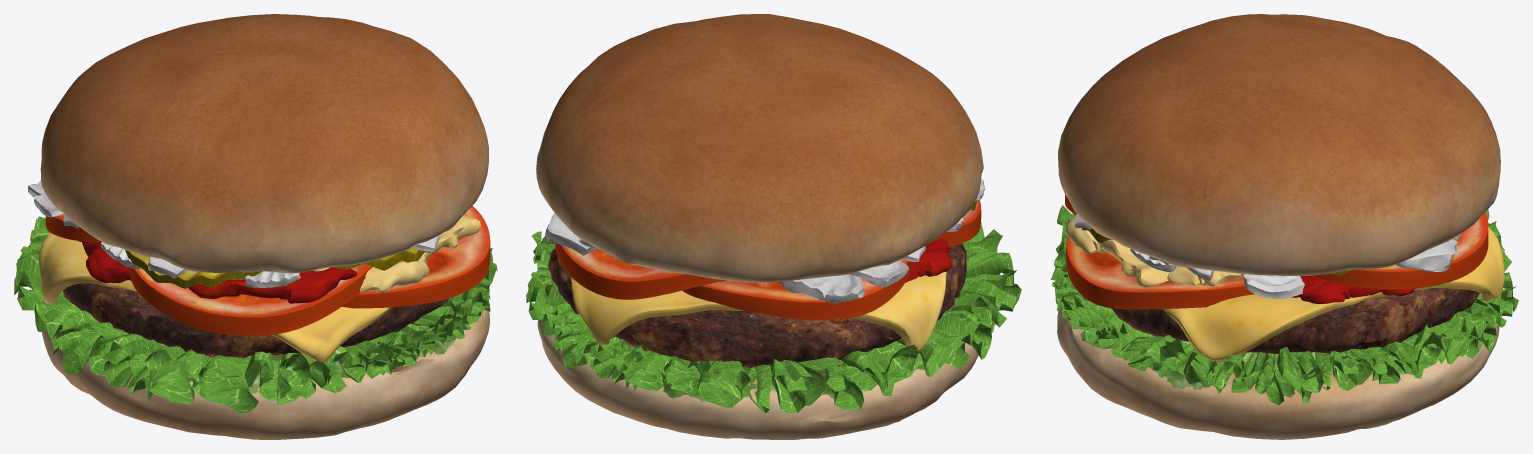
The picture shows the model from 3 angles, left to right: view 1: azimuth 30°, elevation 25°; view 2: azimuth 150°, elevation 25°; view 3: azimuth 270°, elevation 25°; orthographic projection.
Visible parts, largest first — view 1: HAMBURGER; view 2: HAMBURGER; view 3: HAMBURGER.
Boxes of the visible parts, x1,y1,x2,y2 form: HAMBURGER: (14, 14, 497, 439); HAMBURGER: (526, 14, 1021, 439); HAMBURGER: (1050, 14, 1518, 439).
Size of the model in its own units: 22.7 by 15.78 by 21.55.
Materials: 3 (3 with a texture image).
